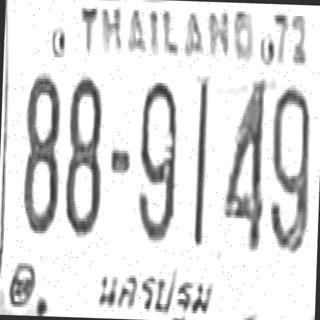N01: (191, 74, 210, 246)
N04: (220, 77, 267, 249)
N08: (62, 74, 104, 235), (22, 71, 62, 232)
N09: (267, 83, 311, 249), (135, 81, 178, 242)
P28: (86, 250, 224, 320)
